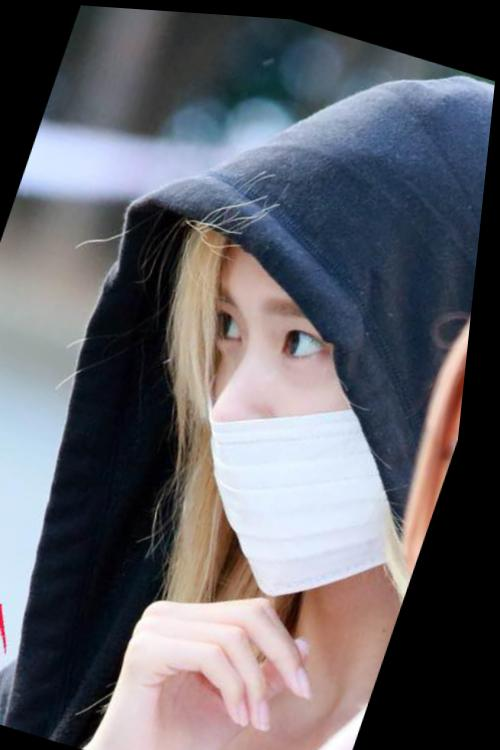WRONG: (132, 246, 475, 610)
